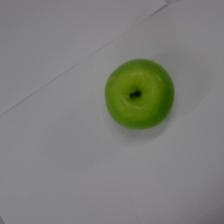green: (105, 59, 174, 129)
